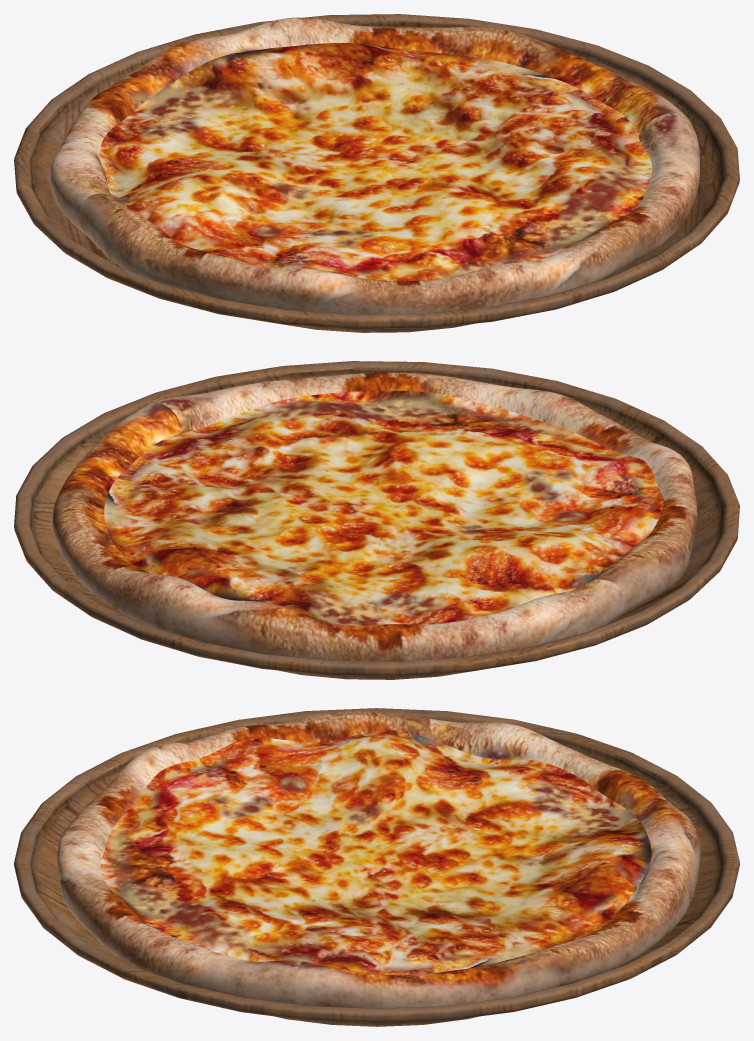
File: pizza.glb
The picture shows the model from 3 angles, top to bottom: view 1: azimuth 30°, elevation 25°; view 2: azimuth 150°, elevation 25°; view 3: azimuth 270°, elevation 25°; orthographic projection.
Parts seen in each view (by area): view 1: piza_low_01:Group259, Object_2_Material__2.001_0; view 2: piza_low_01:Group259, Object_2_Material__2.001_0; view 3: piza_low_01:Group259, Object_2_Material__2.001_0.
Part boxes in pixels (x1=…): piza_low_01:Group259: x1=50, y1=17, x2=700, y2=314; Object_2_Material__2.001_0: x1=14, y1=14, x2=739, y2=332; piza_low_01:Group259: x1=52, y1=372, x2=697, y2=661; Object_2_Material__2.001_0: x1=14, y1=361, x2=739, y2=679; piza_low_01:Group259: x1=57, y1=711, x2=700, y2=1008; Object_2_Material__2.001_0: x1=14, y1=708, x2=739, y2=1026.
Size of the model in its own units: 0.7141 by 0.1072 by 0.7141.
Materials: 2 (2 with a texture image).
